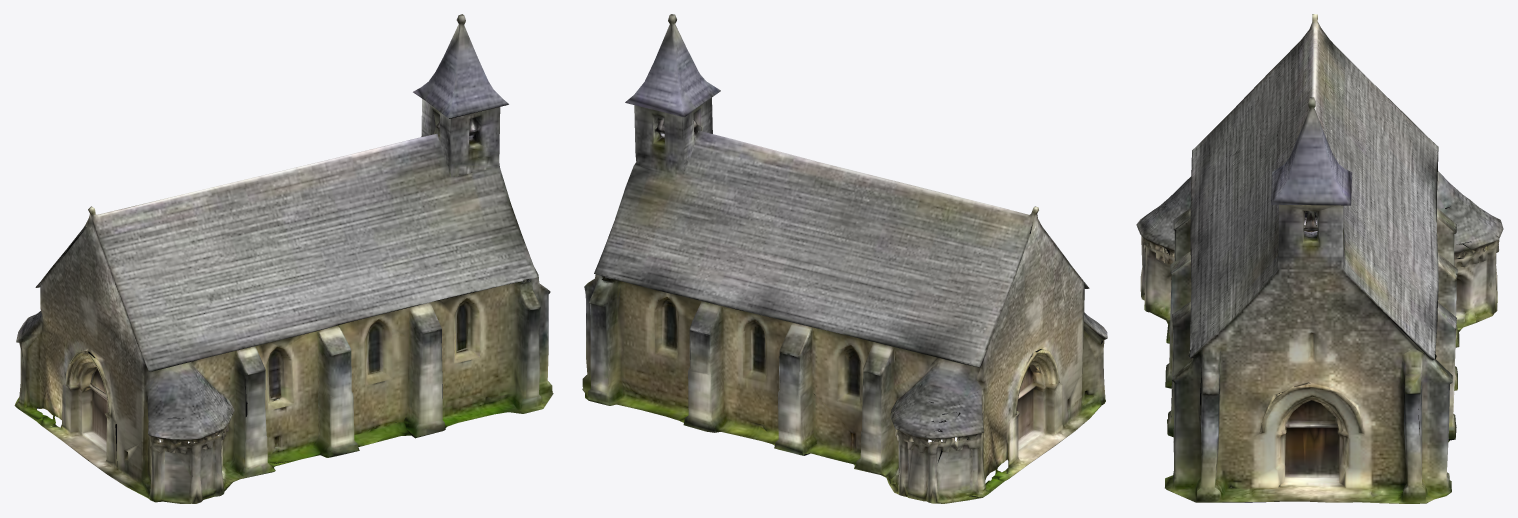
Rendered from ga3_church_lod1.glb.
3 views of the same model, side by side, from view 1: azimuth 30°, elevation 25°; view 2: azimuth 150°, elevation 25°; view 3: azimuth 270°, elevation 25° (orthographic). The views are drawn at different scales.
Visible parts, largest first — view 1: ga3_church_lod1; view 2: ga3_church_lod1; view 3: ga3_church_lod1.
Boxes of the visible parts, x1,y1,x2,y2 form: ga3_church_lod1: (14, 14, 553, 503); ga3_church_lod1: (582, 14, 1107, 503); ga3_church_lod1: (1136, 14, 1503, 503).
Size of the model in its own units: 22.02 by 17.44 by 15.08.
Materials: 1 (1 with a texture image).
